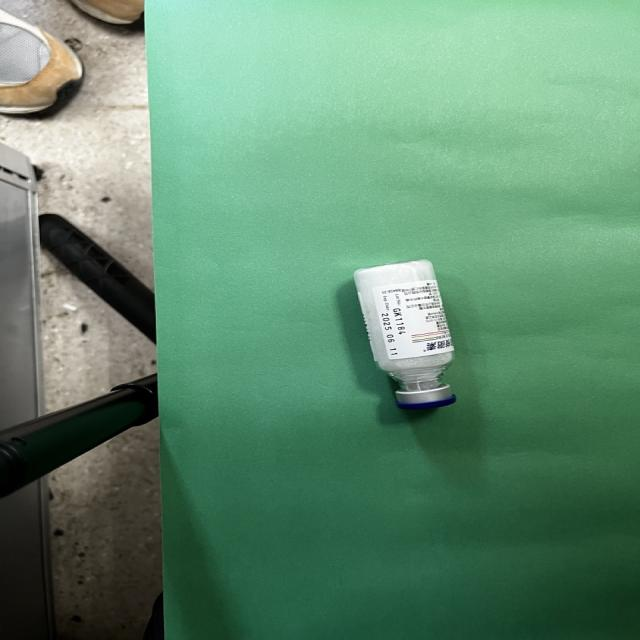Vials: (354, 260, 455, 409)
